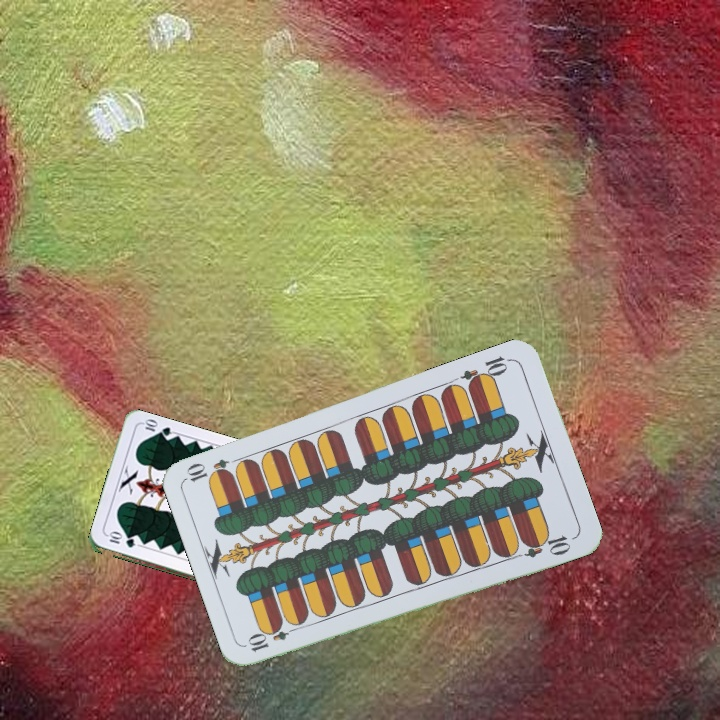E10: (457, 352, 514, 391), (244, 620, 302, 655)
G10: (104, 530, 138, 550)
